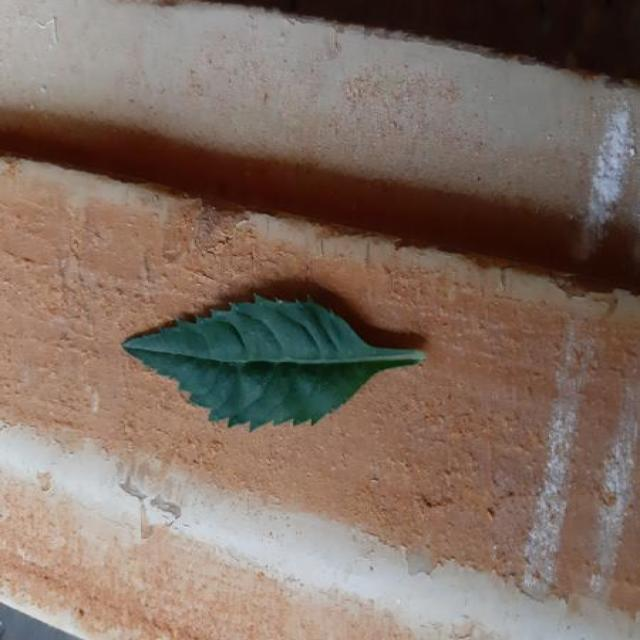marigold: (123, 296, 423, 429)
